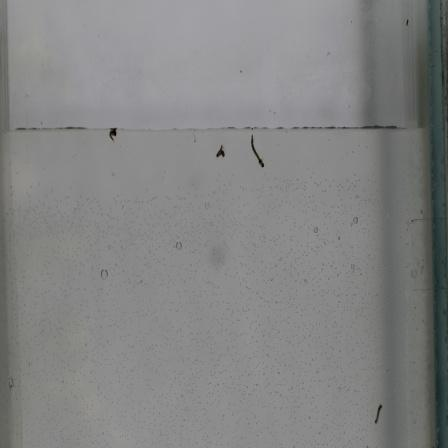Jentik-Nyamuk: (246, 134, 268, 169), (370, 402, 390, 427), (214, 141, 230, 163), (107, 125, 119, 141)
